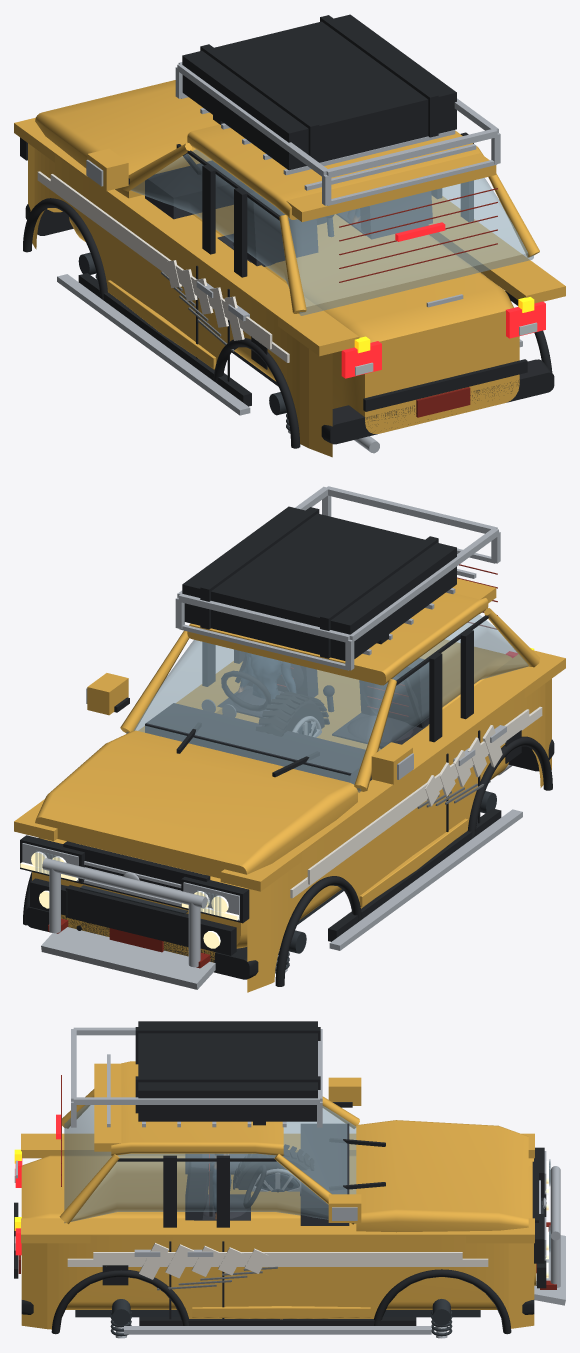
File: dzo-hatch.glb
3 views of the same model, one above another, from view 1: azimuth 30°, elevation 25°; view 2: azimuth 150°, elevation 25°; view 3: azimuth 270°, elevation 25° (orthographic). The views are drawn at different scales.
Parts seen in each view (by area): view 1: body_high, cosmetic_carrier, body_low, cosmetic_basket, cosmetic_trail, cosmetic_stripe, cosmetic_summit; view 2: body_high, body_low, cosmetic_carrier, cosmetic_trail, cosmetic_basket, cosmetic_stripe, cosmetic_summit, wheel_high; view 3: body_high, body_low, cosmetic_carrier, cosmetic_trail, cosmetic_stripe, cosmetic_basket, cosmetic_summit, wheel_high, damage_group.
Boxes of the visible parts, bbox=[...] form: body_high: bbox=[14, 80, 565, 457]; cosmetic_carrier: bbox=[182, 14, 456, 170]; body_low: bbox=[23, 150, 545, 446]; cosmetic_basket: bbox=[175, 62, 500, 205]; cosmetic_trail: bbox=[57, 274, 522, 415]; cosmetic_stripe: bbox=[50, 174, 272, 349]; cosmetic_summit: bbox=[165, 260, 244, 340]; body_high: bbox=[14, 564, 565, 992]; body_low: bbox=[26, 615, 552, 981]; cosmetic_carrier: bbox=[182, 506, 456, 660]; cosmetic_trail: bbox=[41, 809, 522, 989]; cosmetic_basket: bbox=[175, 486, 500, 670]; cosmetic_stripe: bbox=[307, 709, 529, 884]; cosmetic_summit: bbox=[425, 725, 502, 806]; wheel_high: bbox=[256, 691, 329, 736]; body_high: bbox=[14, 1061, 556, 1338]; body_low: bbox=[56, 1105, 507, 1333]; cosmetic_carrier: bbox=[135, 1021, 320, 1121]; cosmetic_trail: bbox=[124, 1166, 565, 1334]; cosmetic_stripe: bbox=[93, 1252, 462, 1265]; cosmetic_basket: bbox=[71, 1027, 322, 1127]; cosmetic_summit: bbox=[139, 1243, 268, 1279]; wheel_high: bbox=[233, 1144, 313, 1189]; damage_group: bbox=[157, 1266, 277, 1290].
Size of what is drawn, in the model's own units: 2.13 by 1.93 by 3.88.
